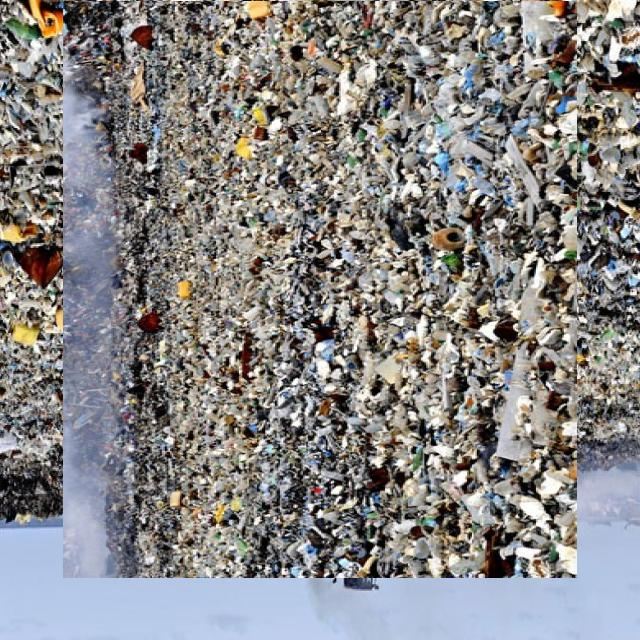garbage: (32, 0, 609, 547)
